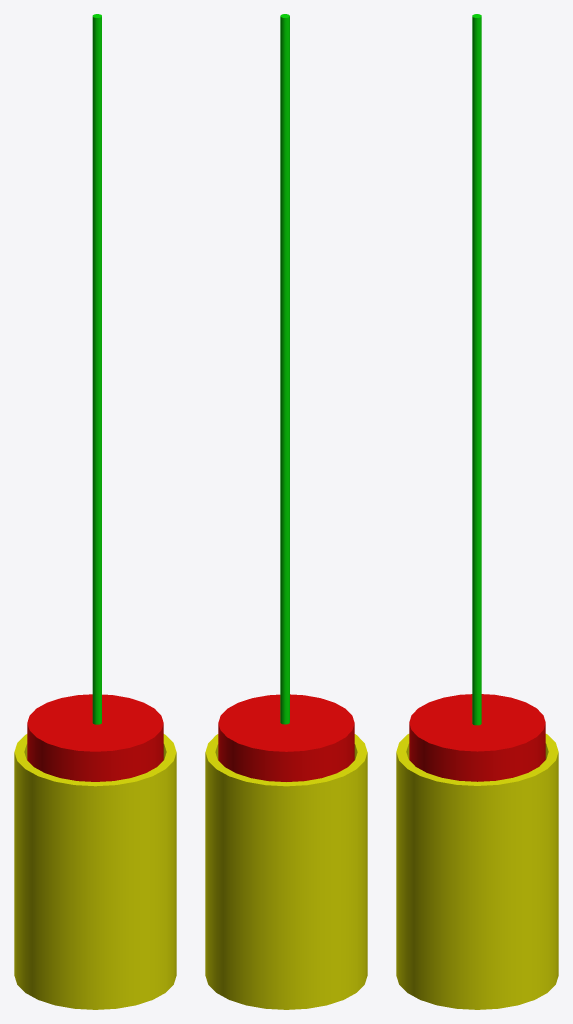
Rendered from ai2_lamp_1.fbx.
The picture shows the model from 3 angles, left to right: view 1: azimuth 30°, elevation 25°; view 2: azimuth 150°, elevation 25°; view 3: azimuth 270°, elevation 25°; orthographic projection.
Visible parts, largest first — view 1: ai2_lamp_1; view 2: ai2_lamp_1; view 3: ai2_lamp_1.
Part boxes in pixels (x1,y1,x2,y2): ai2_lamp_1: (14, 14, 176, 1009); ai2_lamp_1: (205, 14, 367, 1009); ai2_lamp_1: (396, 14, 558, 1009).
Size of the model in its own units: 11.73 by 76.58 by 11.73.
